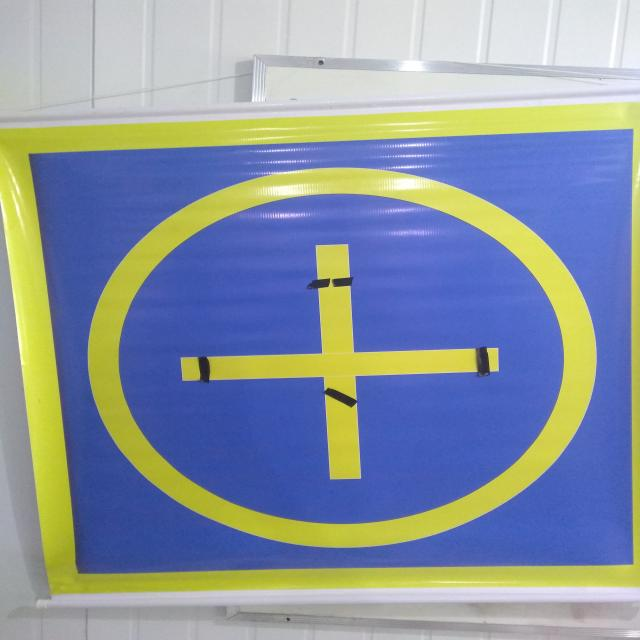circulo-com-sinal-positivo: (3, 125, 640, 582)
